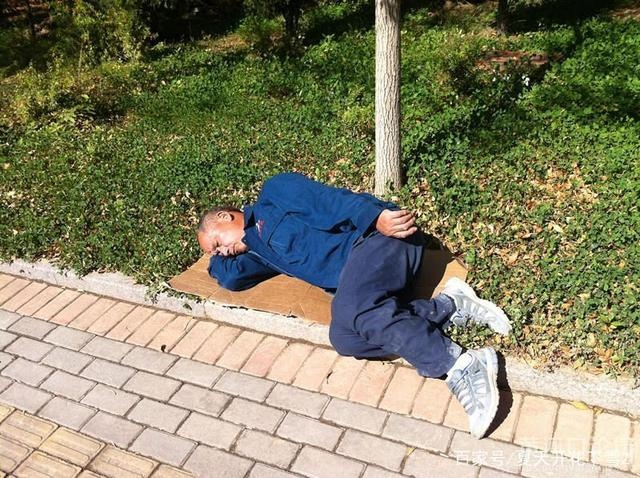falling: (181, 171, 525, 447)
